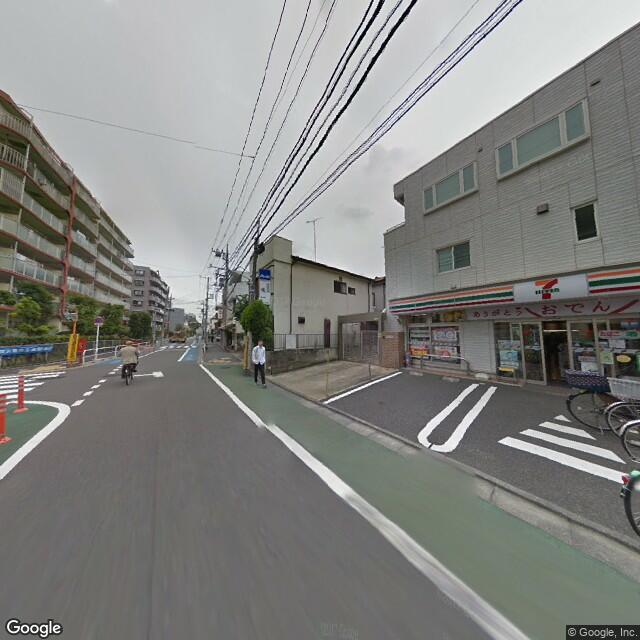7-eleven: (389, 262, 639, 320)
